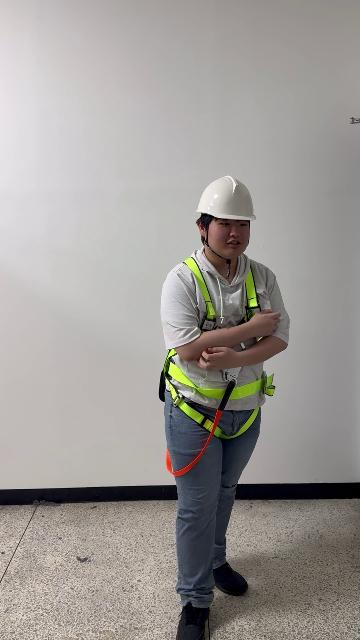helmet_worn: (195, 175, 257, 221)
shoe_not_worn: (212, 561, 248, 596), (174, 602, 209, 637)
vest_worn: (158, 262, 276, 438)
